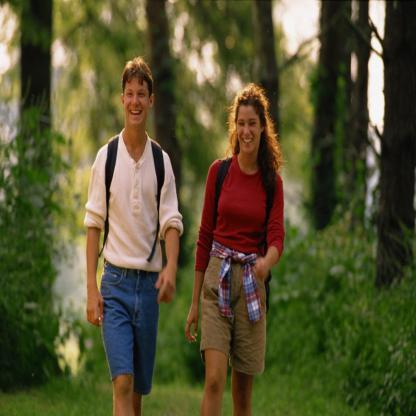face: (237, 104, 261, 156), (125, 75, 150, 124)
